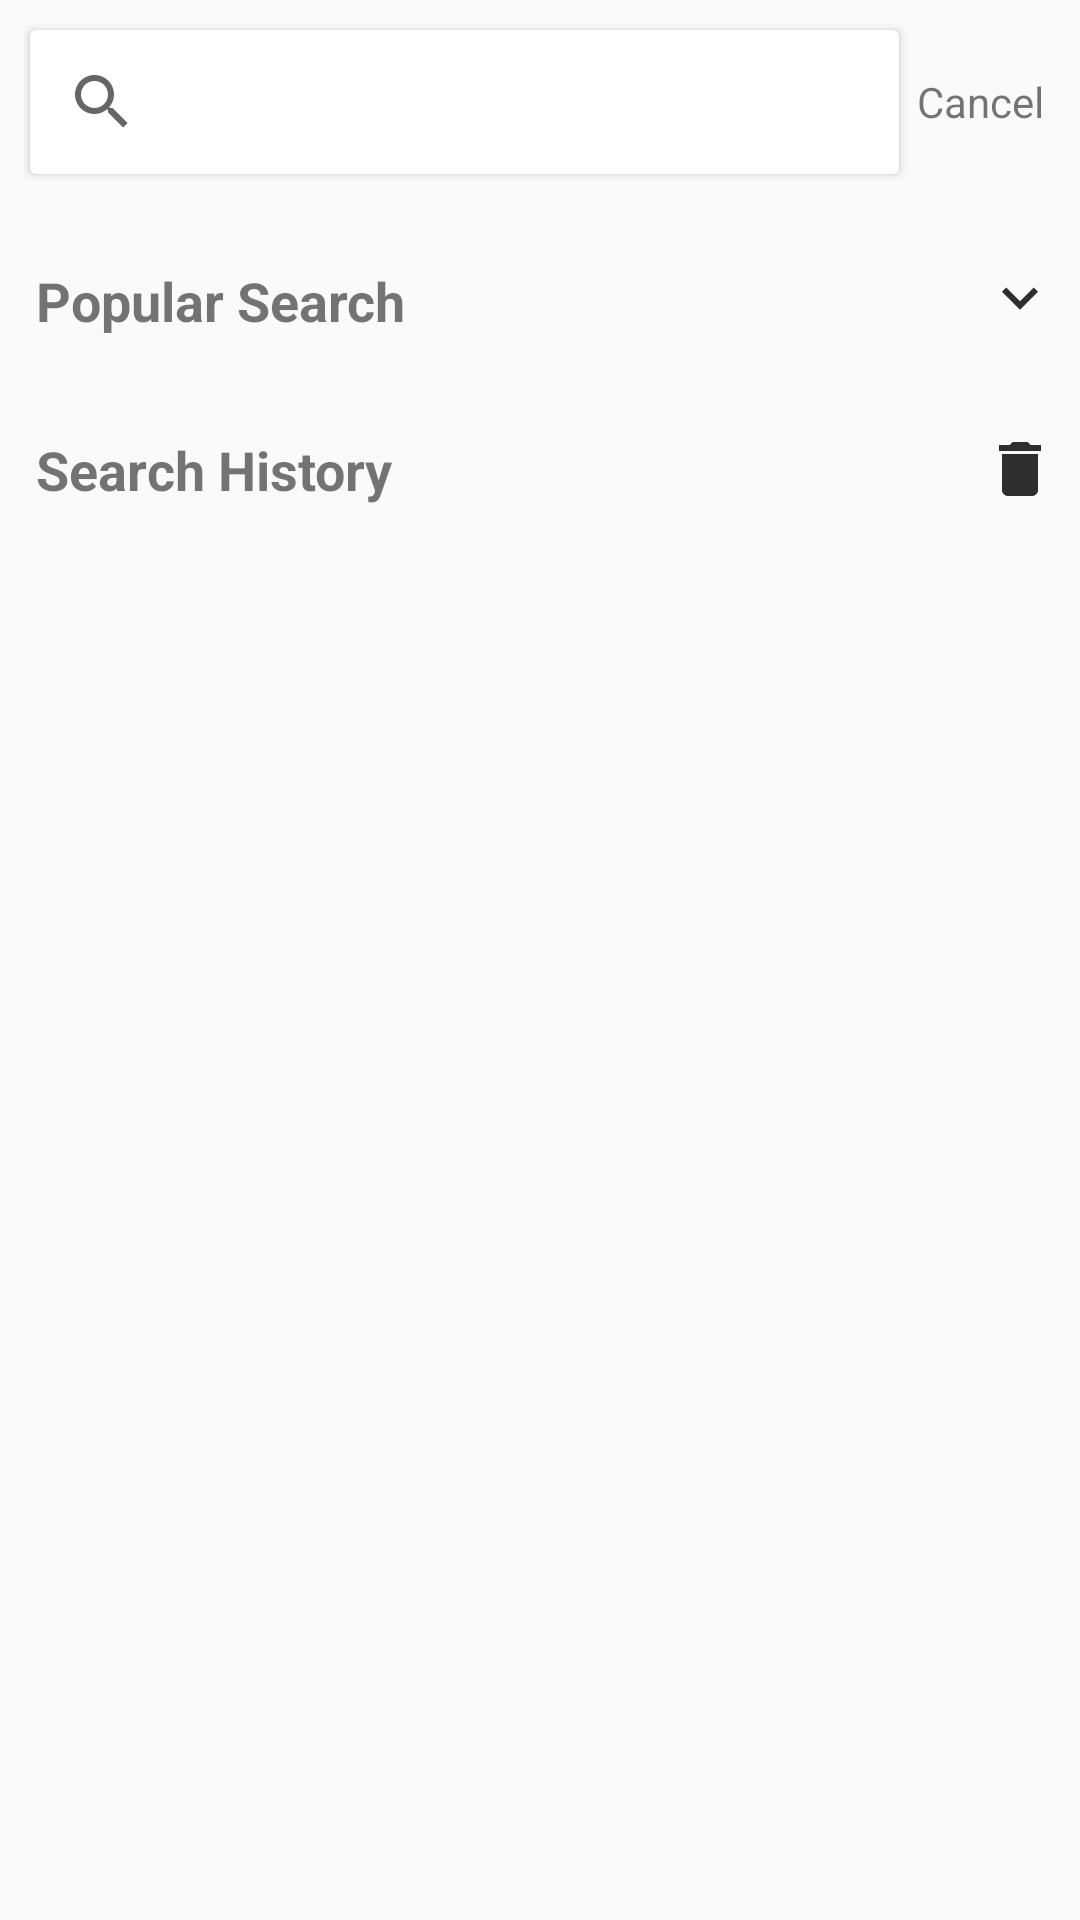

Screen size 1080w x 1920h. Icon name, then its center in pixels as (x,y):
delete: (1020,469)
keyboard arrow down: (1020,298)
